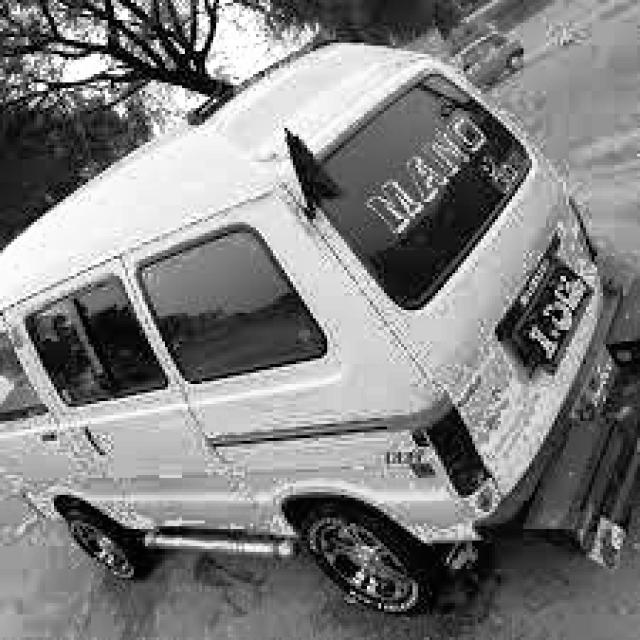LCV: (0, 45, 634, 634)
